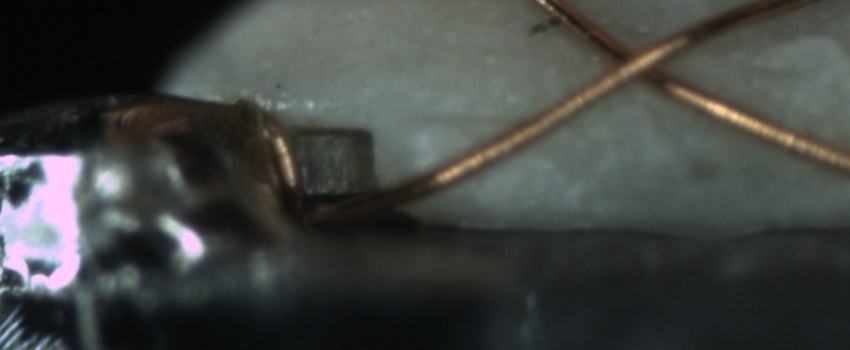CL: (588, 26, 687, 96)
DL: (405, 93, 545, 157)
TE: (227, 96, 316, 219)
